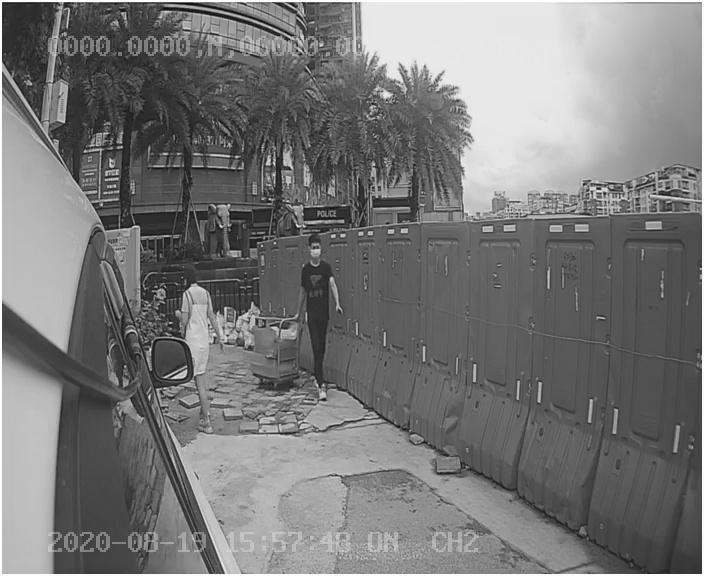person: (291, 232, 356, 398)
